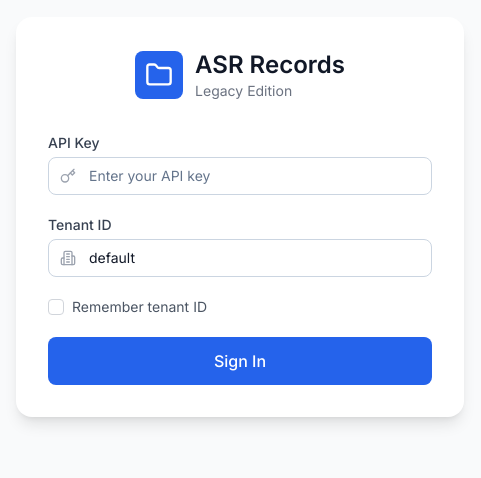
Test: Login page › shows error when authenticated is false
Type "sk-ant-key-1234567890" into the password field labelled "API Key" at (240, 176), box top-left (48, 157), bottom-right (432, 195)
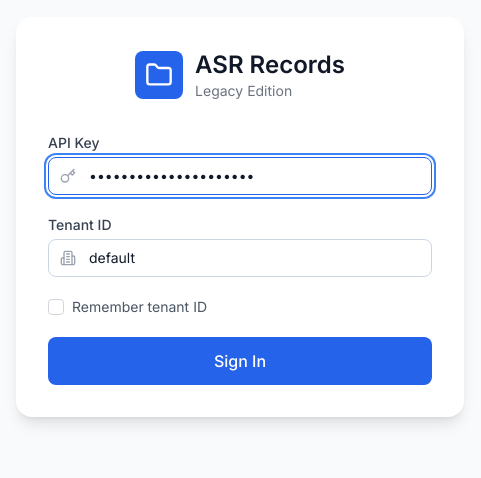
Click the button "Sign In" at (240, 361), box top-left (48, 337), bottom-right (432, 385)
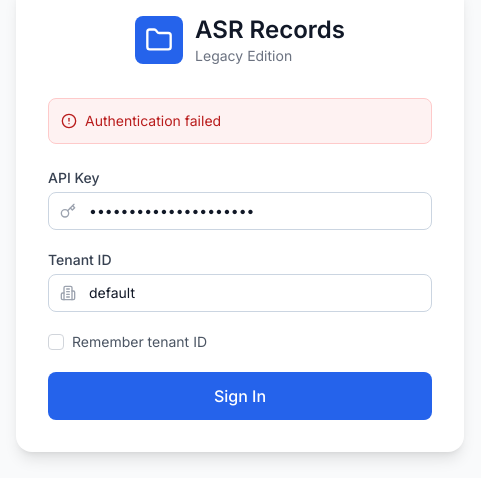
Expected: the message reads "Authentication failed", top-left (85, 112), bottom-right (221, 129)
